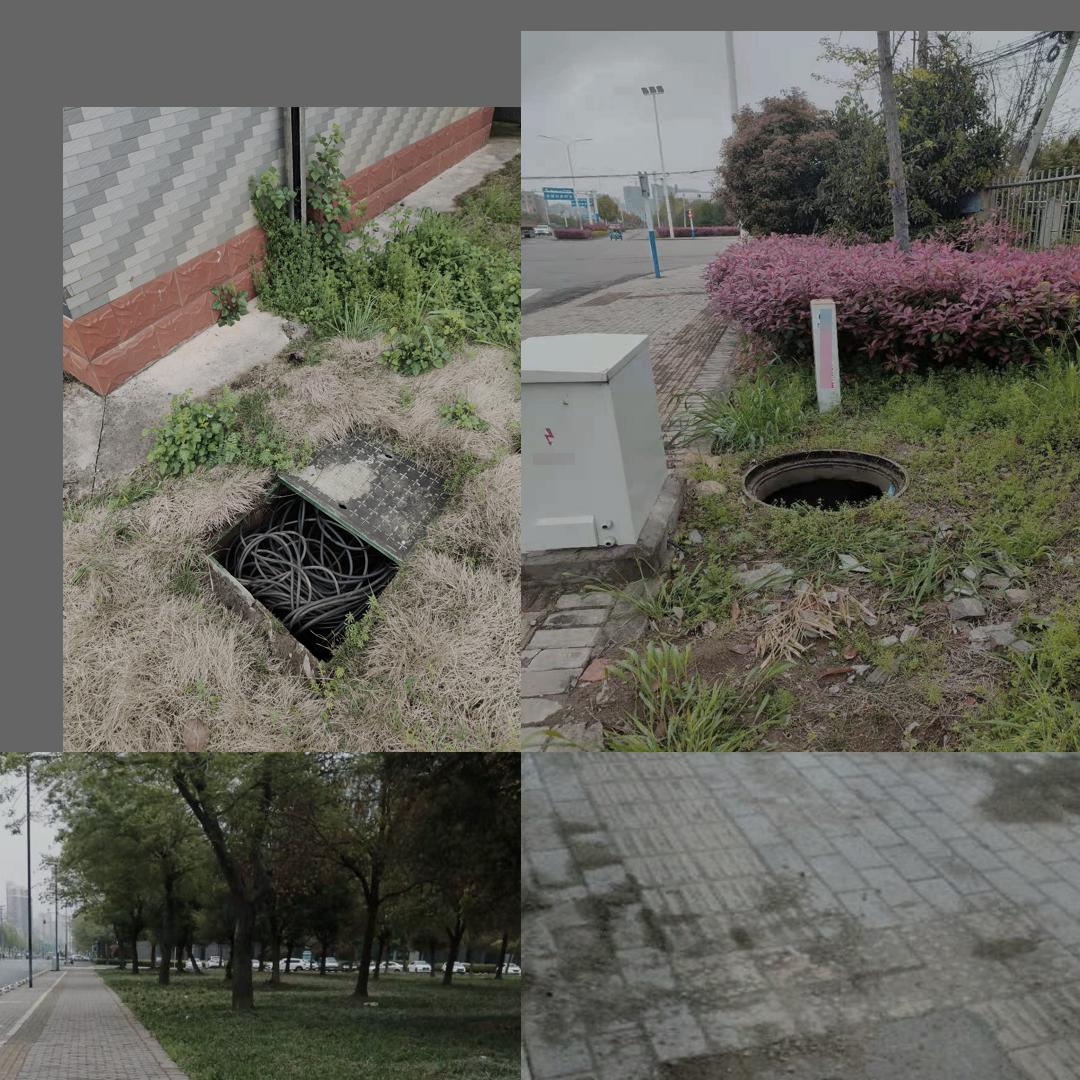lose: (200, 474, 403, 666), (728, 433, 923, 527), (722, 1075, 1039, 1080)
